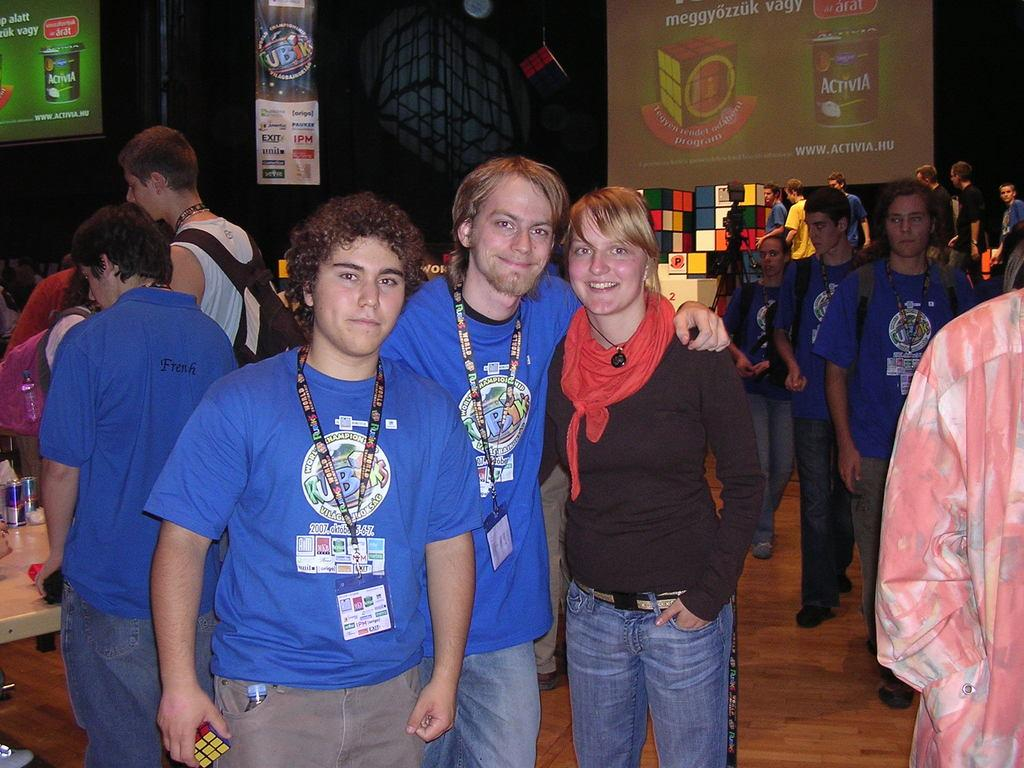Sem Máscara: (316, 234, 408, 354), (470, 173, 552, 292), (566, 209, 644, 311), (878, 191, 925, 252), (122, 165, 151, 218), (801, 210, 832, 252), (755, 231, 783, 276), (78, 258, 102, 303), (761, 183, 775, 201), (998, 185, 1010, 200), (913, 170, 924, 185), (781, 186, 793, 199), (828, 174, 838, 187), (950, 160, 954, 181)
